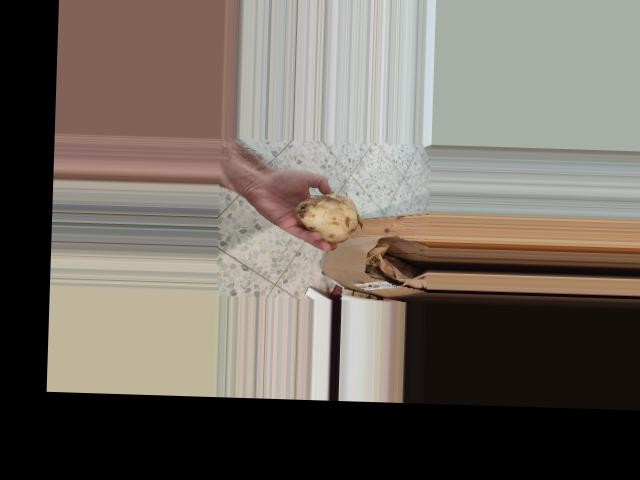onion: (292, 188, 363, 246)
